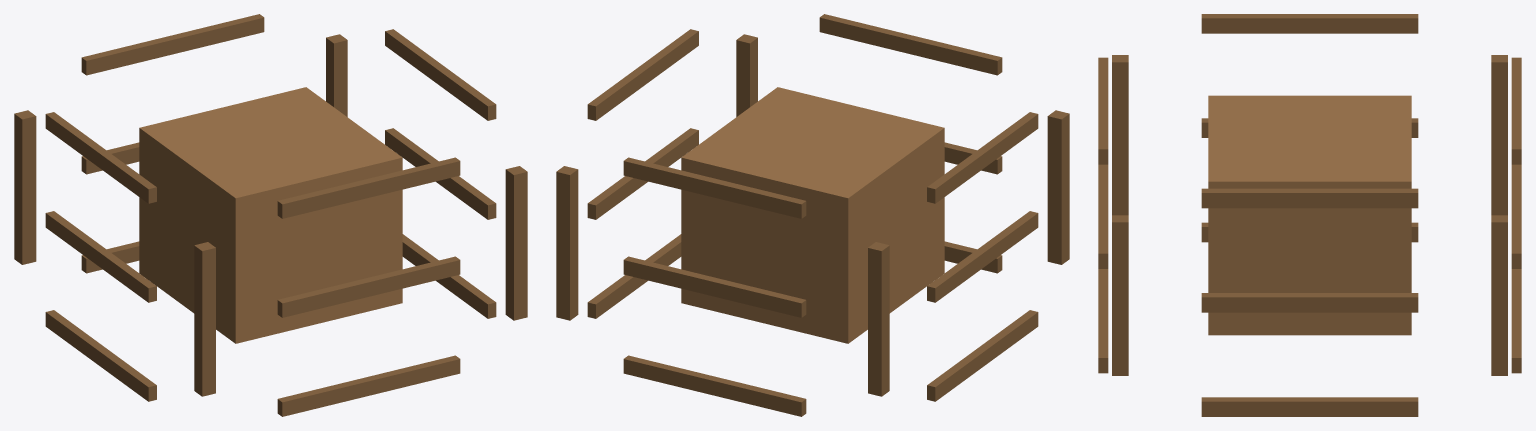
File: bazaar_crate.glb
3 renders of one model, left to right at view 1: azimuth 30°, elevation 25°; view 2: azimuth 150°, elevation 25°; view 3: azimuth 270°, elevation 25°, orthographic. The views are drawn at different scales.
Visible parts, largest first — view 1: Crate_Body, Crate_Slat_0_2.002, Crate_Slat_0_0.002, Crate_Slat_0_2, Crate_Slat_0_2.001, Crate_Post_-0.3_0.3, Crate_Post_0.3_-0.3, Crate_Post_-0.3_-0.3, Crate_Slat_0_1.002, Crate_Slat_0_3, Crate_Slat_0_3.001, Crate_Slat_0_3.002 (+5 smaller); view 2: Crate_Body, Crate_Slat_0_0.002, Crate_Slat_0_0, Crate_Slat_0_0.001, Crate_Slat_0_2.002, Crate_Post_-0.3_-0.3, Crate_Post_0.3_0.3, Crate_Post_-0.3_0.3, Crate_Slat_0_1.002, Crate_Slat_0_3, Crate_Slat_0_3.001, Crate_Slat_0_3.002 (+5 smaller); view 3: Crate_Body, Crate_Slat_0_1.002, Crate_Slat_0_1, Crate_Slat_0_1.001, Crate_Slat_0_3.002, Crate_Post_-0.3_-0.3, Crate_Post_-0.3_0.3, Crate_Post_0.3_-0.3, Crate_Post_0.3_0.3, Crate_Slat_0_0.002, Crate_Slat_0_2.002, Crate_Slat_0_0 (+3 smaller).
Boxes of the visible parts, left/top/right/bottom form: Crate_Body: left=139, top=87, right=402, bottom=343; Crate_Slat_0_2.002: left=277, top=157, right=460, bottom=218; Crate_Slat_0_0.002: left=81, top=14, right=264, bottom=75; Crate_Slat_0_2: left=277, top=355, right=460, bottom=416; Crate_Slat_0_2.001: left=277, top=256, right=460, bottom=317; Crate_Post_-0.3_0.3: left=14, top=110, right=36, bottom=264; Crate_Post_0.3_-0.3: left=505, top=166, right=527, bottom=320; Crate_Post_-0.3_-0.3: left=194, top=242, right=215, bottom=396; Crate_Slat_0_1.002: left=385, top=29, right=496, bottom=120; Crate_Slat_0_3: left=45, top=310, right=156, bottom=401; Crate_Slat_0_3.001: left=45, top=211, right=156, bottom=302; Crate_Slat_0_3.002: left=45, top=112, right=156, bottom=203; Crate_Body: left=681, top=87, right=944, bottom=343; Crate_Slat_0_0.002: left=623, top=157, right=806, bottom=218; Crate_Slat_0_0: left=623, top=355, right=806, bottom=416; Crate_Slat_0_0.001: left=623, top=256, right=806, bottom=317; Crate_Slat_0_2.002: left=819, top=14, right=1002, bottom=75; Crate_Post_-0.3_-0.3: left=1047, top=110, right=1069, bottom=264; Crate_Post_0.3_0.3: left=556, top=166, right=578, bottom=320; Crate_Post_-0.3_0.3: left=868, top=242, right=889, bottom=396; Crate_Slat_0_1.002: left=587, top=29, right=698, bottom=120; Crate_Slat_0_3: left=927, top=310, right=1038, bottom=401; Crate_Slat_0_3.001: left=927, top=211, right=1038, bottom=302; Crate_Slat_0_3.002: left=927, top=112, right=1038, bottom=203; Crate_Body: left=1208, top=95, right=1411, bottom=335; Crate_Slat_0_1.002: left=1201, top=188, right=1418, bottom=208; Crate_Slat_0_1: left=1201, top=397, right=1418, bottom=416; Crate_Slat_0_1.001: left=1201, top=293, right=1418, bottom=312; Crate_Slat_0_3.002: left=1201, top=14, right=1418, bottom=33; Crate_Post_-0.3_-0.3: left=1112, top=55, right=1128, bottom=215; Crate_Post_-0.3_0.3: left=1491, top=55, right=1507, bottom=215; Crate_Post_0.3_-0.3: left=1112, top=215, right=1128, bottom=375; Crate_Post_0.3_0.3: left=1491, top=215, right=1507, bottom=375; Crate_Slat_0_0.002: left=1511, top=57, right=1521, bottom=164; Crate_Slat_0_2.002: left=1098, top=57, right=1108, bottom=164; Crate_Slat_0_0: left=1511, top=269, right=1521, bottom=373.
Size of the model in its own units: 0.625 by 0.365 by 0.625.
